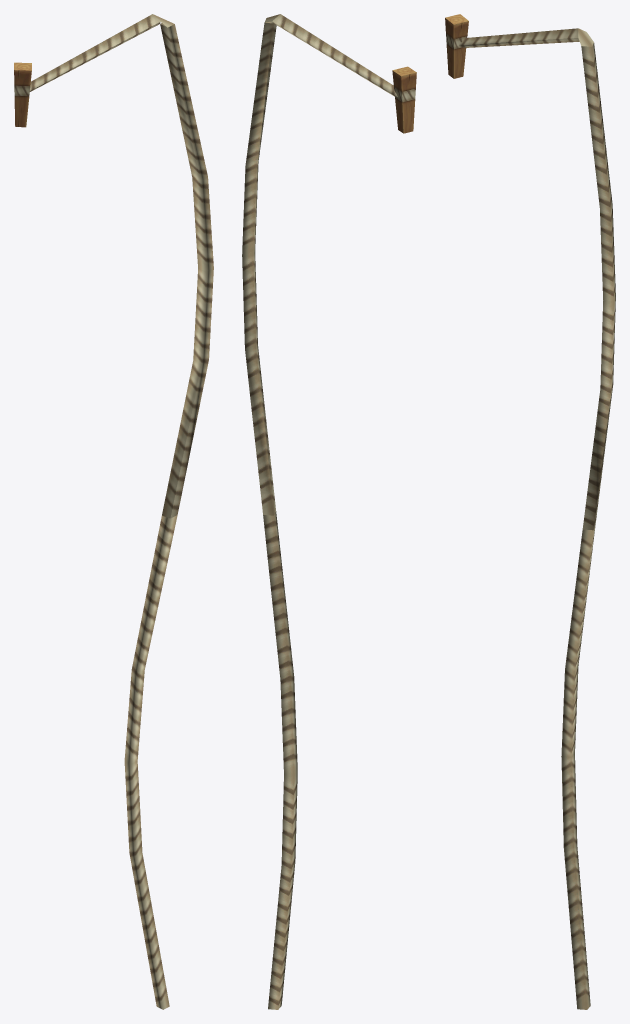
File: rope.fbx
The picture shows the model from 3 angles, left to right: view 1: azimuth 30°, elevation 25°; view 2: azimuth 150°, elevation 25°; view 3: azimuth 330°, elevation 25°; orthographic projection. The views are drawn at different scales.
Visible parts, largest first — view 1: rope; view 2: rope; view 3: rope.
Boxes of the visible parts, x1,y1,x2,y2 form: rope: (14, 14, 213, 1009); rope: (242, 14, 416, 1009); rope: (445, 14, 615, 1009).
Size of the model in its own units: 3.5 by 17.84 by 0.7682.
